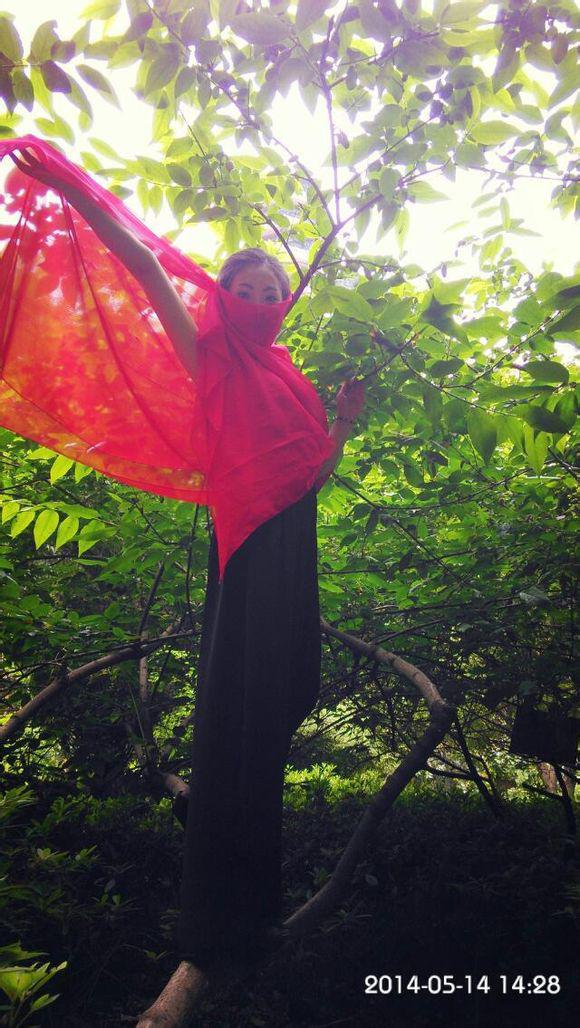OK: (223, 273, 290, 340)
